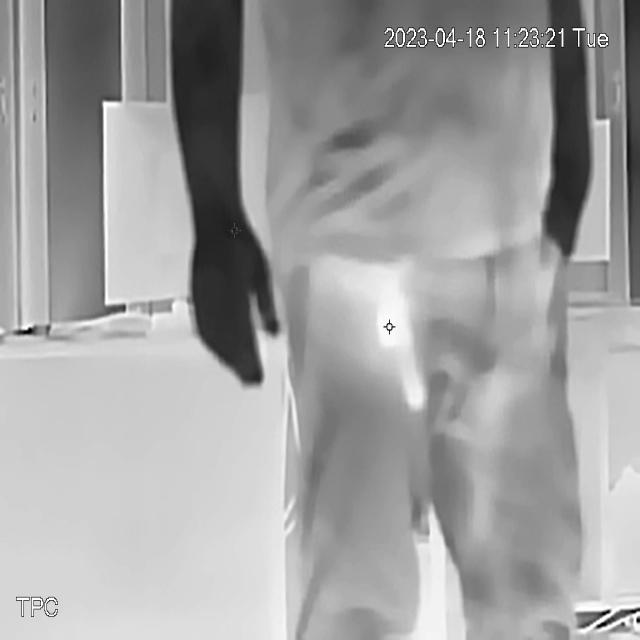Weapon: (304, 245, 454, 426)
